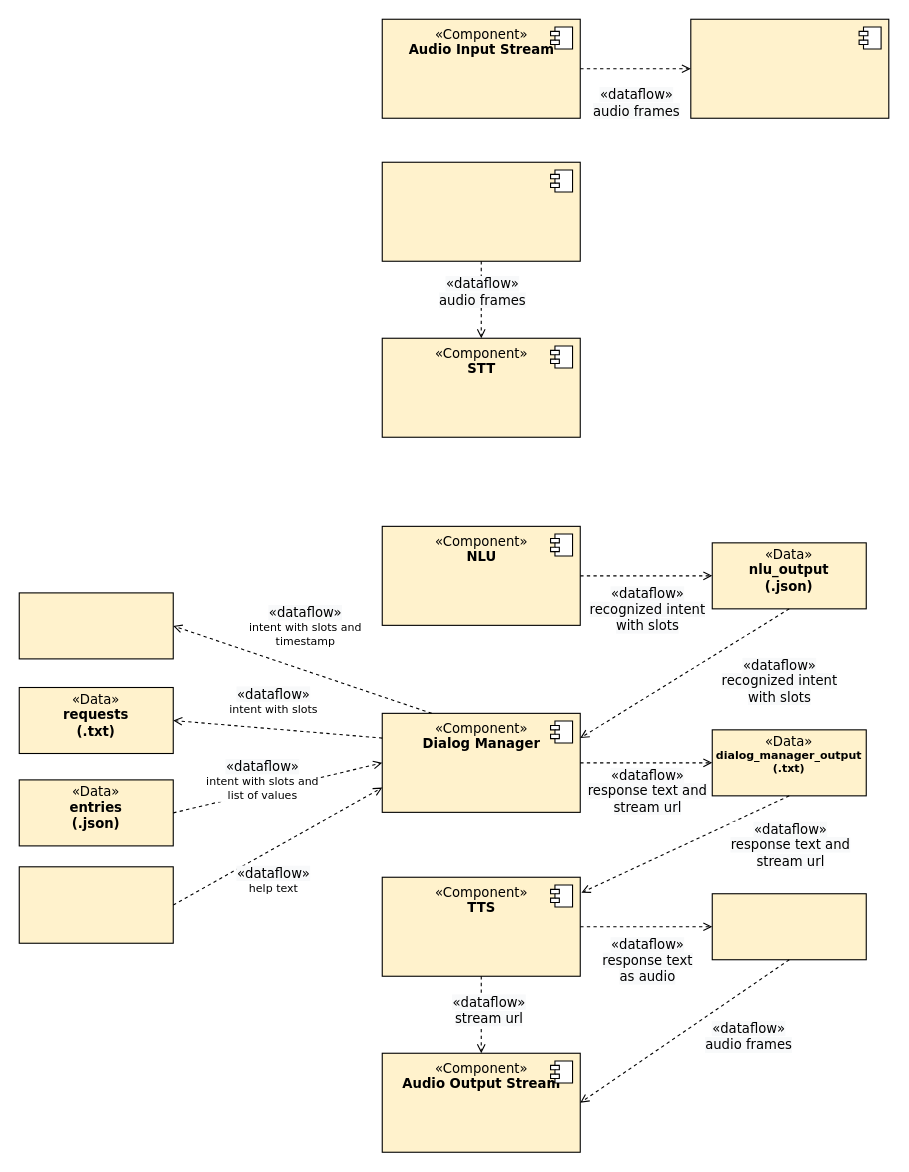
The diagram is 909 pixels wide and 1172 high, and some of its shapes have lost their labels. The box of each missing label's shape, as (x1, y1, x2, y2) in pixels:
«Component» VAD Input Stream: (381, 161, 580, 261)
«Component» WWD: (690, 18, 889, 118)
«Data » dialog_manager_data (.txt): (18, 592, 173, 659)
«Data » tts_output (.wav): (711, 893, 866, 960)
«Data » voice_assistant_ bot_help (.txt): (18, 866, 173, 943)
